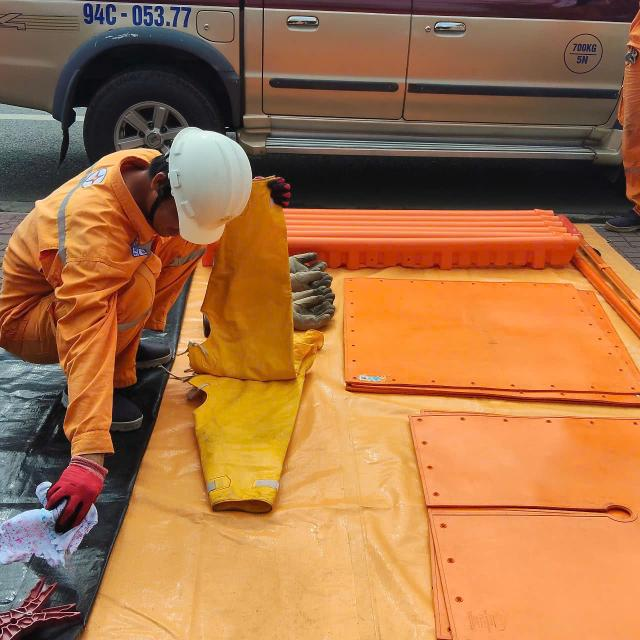gloves: (36, 446, 123, 542), (260, 170, 301, 221)
helmet: (150, 118, 248, 257)
